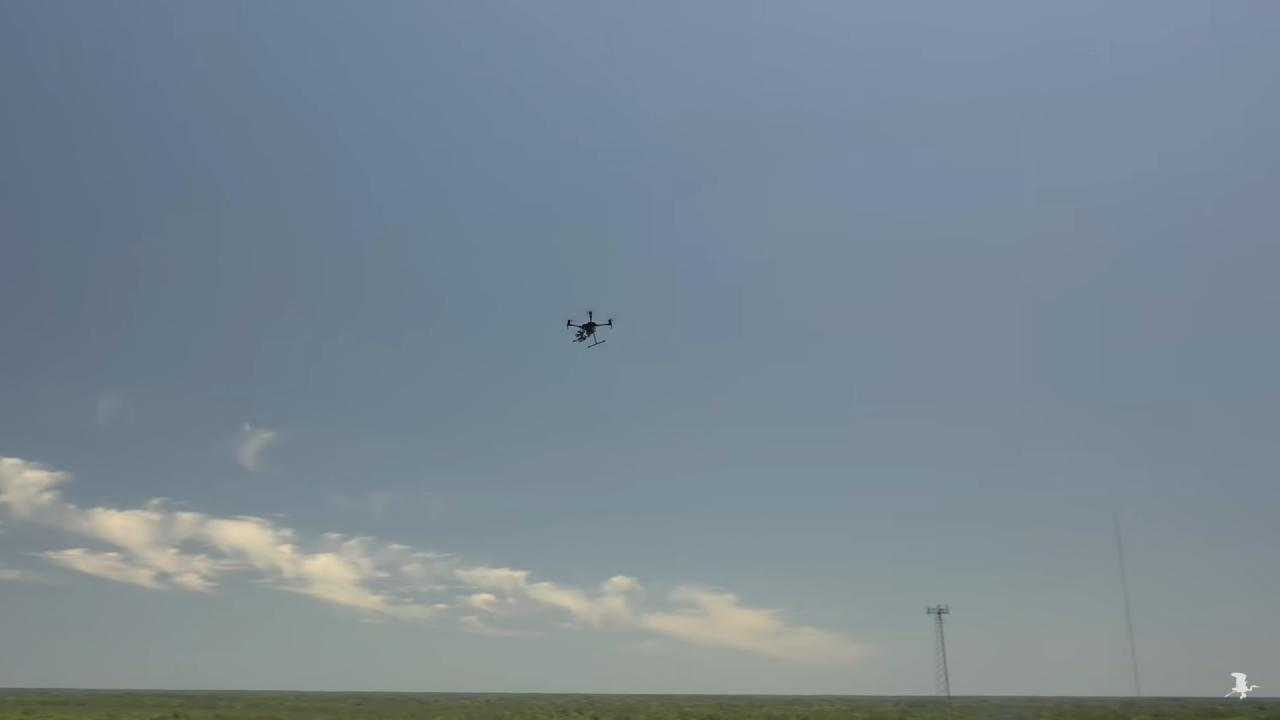Drone: (554, 299, 623, 360)
